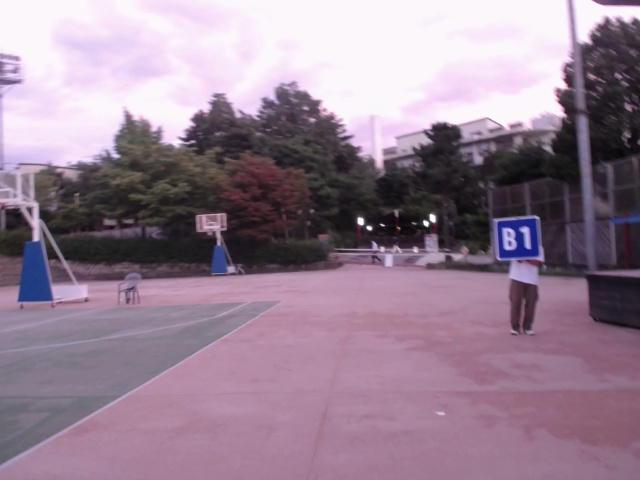delivery_b1: (495, 217, 541, 259)
